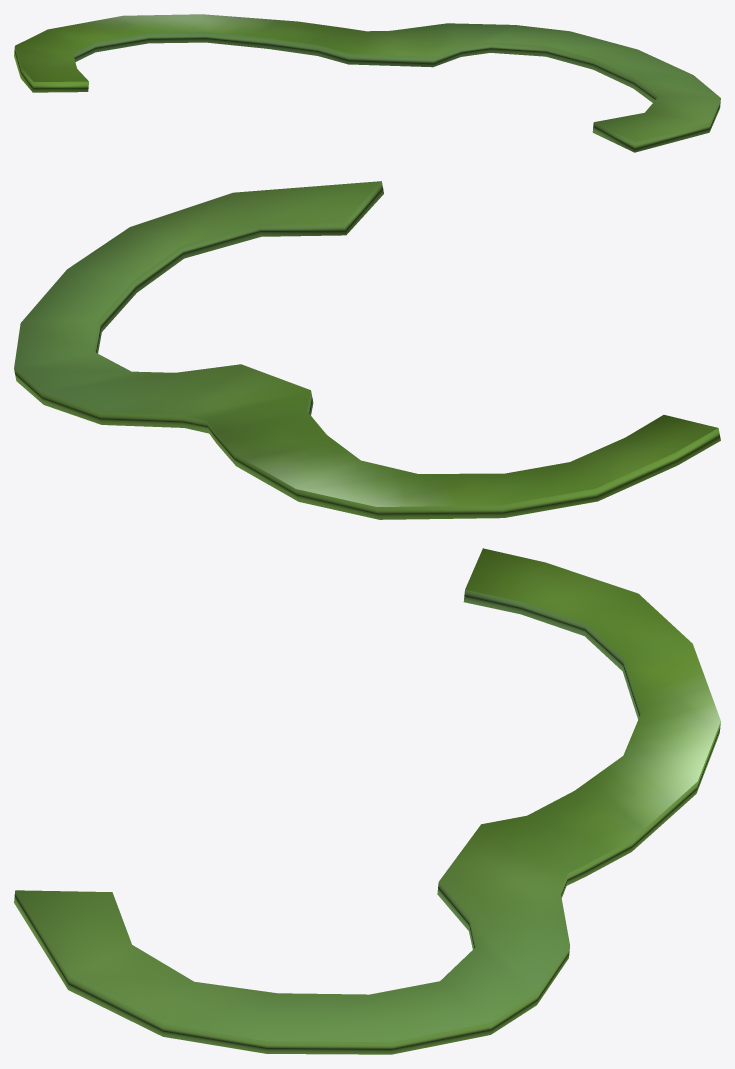
Rendered from greenPepper.glb.
3 views of the same model, one above another, from view 1: azimuth 30°, elevation 25°; view 2: azimuth 150°, elevation 25°; view 3: azimuth 270°, elevation 25° (orthographic). The views are drawn at different scales.
Visible parts, largest first — view 1: pepper.005; view 2: pepper.005; view 3: pepper.005.
Part boxes in pixels (x1=…): pepper.005: x1=14, y1=14, x2=720, y2=152; pepper.005: x1=14, y1=181, x2=720, y2=519; pepper.005: x1=14, y1=548, x2=720, y2=1054.
Size of the model in its own units: 3.06 by 0.4679 by 2.35.
1 material, 1 textured.
